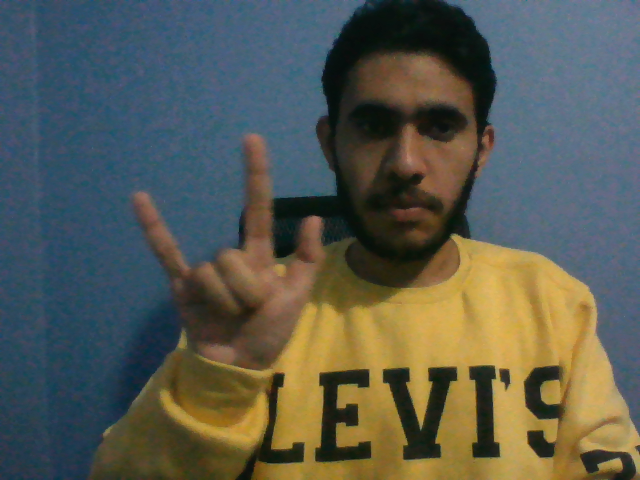iloveyou: (130, 132, 333, 393)
